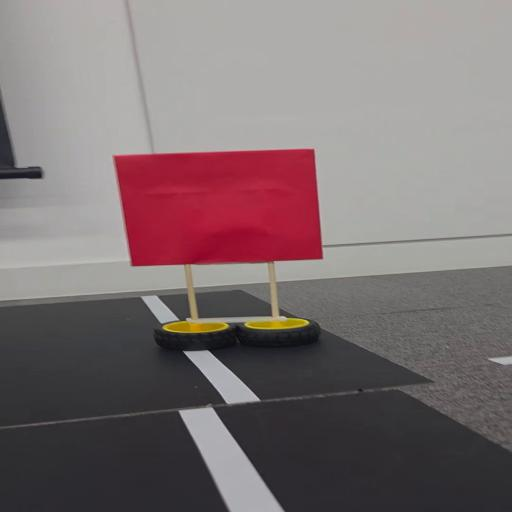Sign_A: (104, 144, 344, 354)
